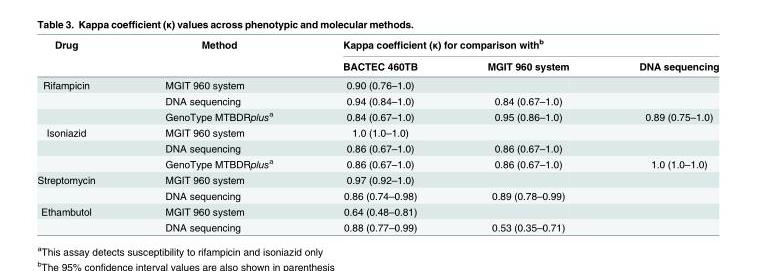table: (36, 36, 718, 232)
table column: (129, 36, 307, 232), (451, 36, 603, 232), (307, 36, 451, 232), (603, 36, 718, 232), (36, 36, 129, 232)
table column header: (36, 36, 718, 75)
table row: (36, 54, 718, 75), (36, 36, 718, 54), (36, 75, 718, 92), (36, 107, 718, 124), (36, 124, 718, 140), (36, 155, 718, 171), (36, 171, 718, 187), (36, 187, 718, 203), (36, 92, 718, 107), (36, 140, 718, 155), (36, 203, 718, 218), (36, 218, 718, 232)
table spanning cell: (307, 36, 718, 54), (129, 36, 307, 75), (36, 75, 129, 124), (36, 124, 129, 171), (36, 36, 129, 75), (36, 171, 129, 203), (36, 203, 129, 232)
